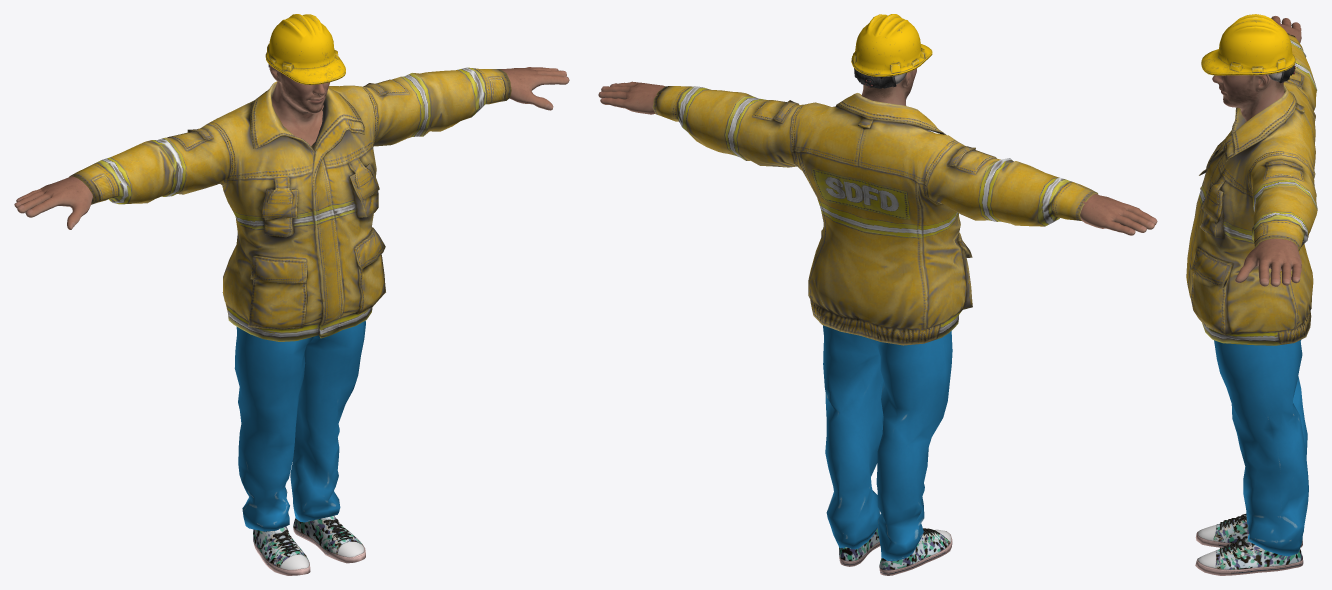
File: man77.obj
3 views of the same model, side by side, from view 1: azimuth 30°, elevation 25°; view 2: azimuth 150°, elevation 25°; view 3: azimuth 270°, elevation 25° (orthographic).
Visible parts, largest first — view 1: Tops, Bottoms, Body, Hats, Shoes; view 2: Tops, Bottoms, Body, Hats, Shoes; view 3: Tops, Bottoms, Body, Hats, Shoes.
Part boxes in pixels (left/top/right/bottom): Tops: left=69, top=67, right=511, bottom=341; Bottoms: left=234, top=320, right=365, bottom=531; Body: left=14, top=65, right=569, bottom=229; Hats: left=265, top=14, right=345, bottom=85; Shoes: left=253, top=516, right=365, bottom=575; Tops: left=652, top=86, right=1098, bottom=345; Bottoms: left=823, top=325, right=952, bottom=560; Body: left=598, top=68, right=1157, bottom=235; Hats: left=851, top=14, right=932, bottom=88; Shoes: left=839, top=528, right=952, bottom=575; Tops: left=1186, top=33, right=1317, bottom=345; Bottoms: left=1214, top=340, right=1308, bottom=556; Body: left=1212, top=16, right=1301, bottom=286; Hats: left=1201, top=14, right=1295, bottom=83; Shoes: left=1195, top=514, right=1303, bottom=575.
Bounding box in the file's own units: 192 × 178 × 39.44.
5 materials, 5 textured.
